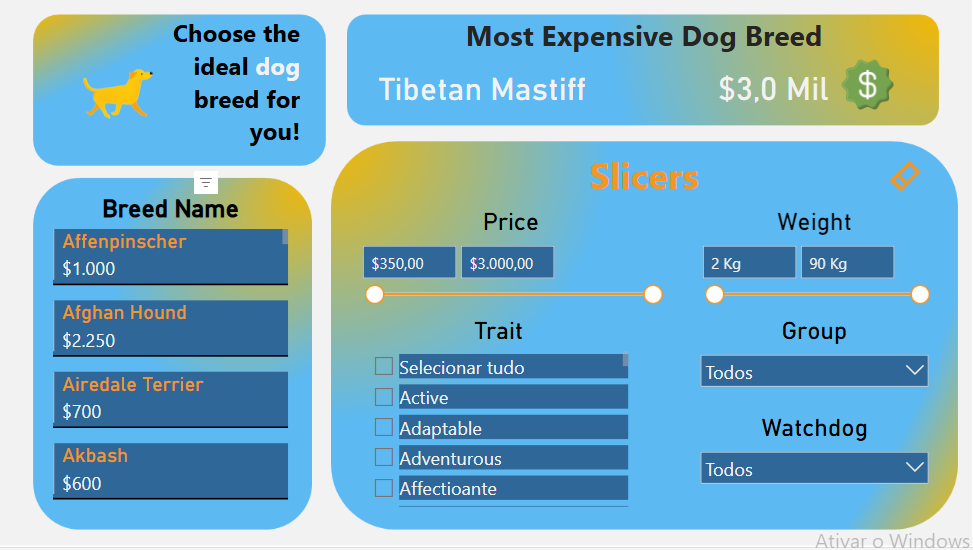

This screenshot's page, from the dashboard's own definition file:
{"tool":"powerbi","page":{"name":"main","canvas":[1280,720],"ordinal":0},"visuals":[{"type":"slicer","title":"Group","fields":{"Values":["dog_group.Group"]},"box":[912,416,320,112],"z":0},{"type":"slicer","title":"Trait","fields":{"Values":["dog_trait.Column2"]},"box":[480,416,352,256],"z":1000},{"type":"slicer","title":"Price","fields":{"Values":["dog_characteristics.Price"]},"box":[464,272,416,144],"z":2000},{"type":"multiRowCard","title":"Breed Name","fields":{"Values":["dog_characteristics.BreedName","Avg(dog_characteristics.Price)"]},"box":[64,256,320,416],"z":3000},{"type":"textbox","box":[192,16,208,192],"z":4000},{"type":"cardVisual","fields":{"Data":["Min(dog_characteristics.BreedName)"]},"box":[32,0,256,224],"z":5000},{"type":"slicer","title":"Weight","fields":{"Values":["dog_characteristics.Weight(Kg)"]},"box":[912,272,320,144],"z":6000},{"type":"textbox","box":[528,192,640,80],"z":8000},{"type":"cardVisual","fields":{"Data":["Max(dog_characteristics.Price)"]},"box":[928,48,272,128],"z":9000},{"type":"textbox","box":[528,16,640,64],"z":10000},{"type":"cardVisual","fields":{"Data":["dog_characteristics.top_breed"]},"box":[480,48,448,128],"z":11000},{"type":"actionButton","box":[1168,208,48,48],"z":12000},{"type":"slicer","title":"Watchdog","fields":{"Values":["dog_characteristics.Watchdog"]},"box":[912,544,320,112],"z":12001}]}

Visuals, with their boxes in screenshot pixels (x1, y1, x2, y2), scaled from the page's 1280x720 canvas onto the 973x550 screenshot:
"Group" slicer: BBox(693, 318, 937, 403)
"Trait" slicer: BBox(365, 318, 632, 513)
"Price" slicer: BBox(353, 208, 669, 318)
"Breed Name" multiRowCard: BBox(49, 196, 292, 513)
textbox: BBox(146, 12, 304, 159)
cardVisual - Min(dog_characteristics.BreedName): BBox(24, 0, 219, 171)
"Weight" slicer: BBox(693, 208, 937, 318)
textbox: BBox(401, 147, 888, 208)
cardVisual - Max(dog_characteristics.Price): BBox(705, 37, 912, 134)
textbox: BBox(401, 12, 888, 61)
cardVisual - dog_characteristics.top_breed: BBox(365, 37, 705, 134)
actionButton: BBox(888, 159, 924, 196)
"Watchdog" slicer: BBox(693, 416, 937, 501)
